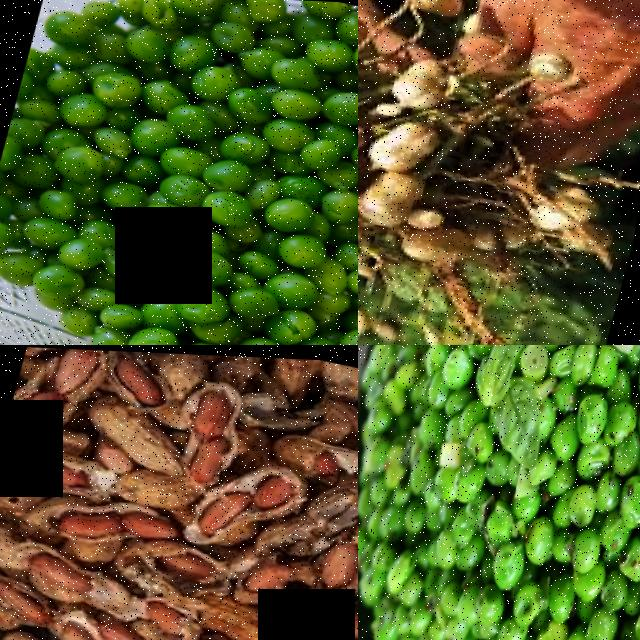peanuts: (78, 394, 185, 458), (110, 458, 209, 513), (197, 588, 278, 640), (248, 463, 306, 510), (60, 503, 129, 542), (24, 452, 96, 488), (120, 505, 187, 542), (272, 586, 324, 631), (317, 530, 358, 587), (319, 600, 358, 640)
peas: (0, 0, 358, 345), (358, 345, 640, 640)
